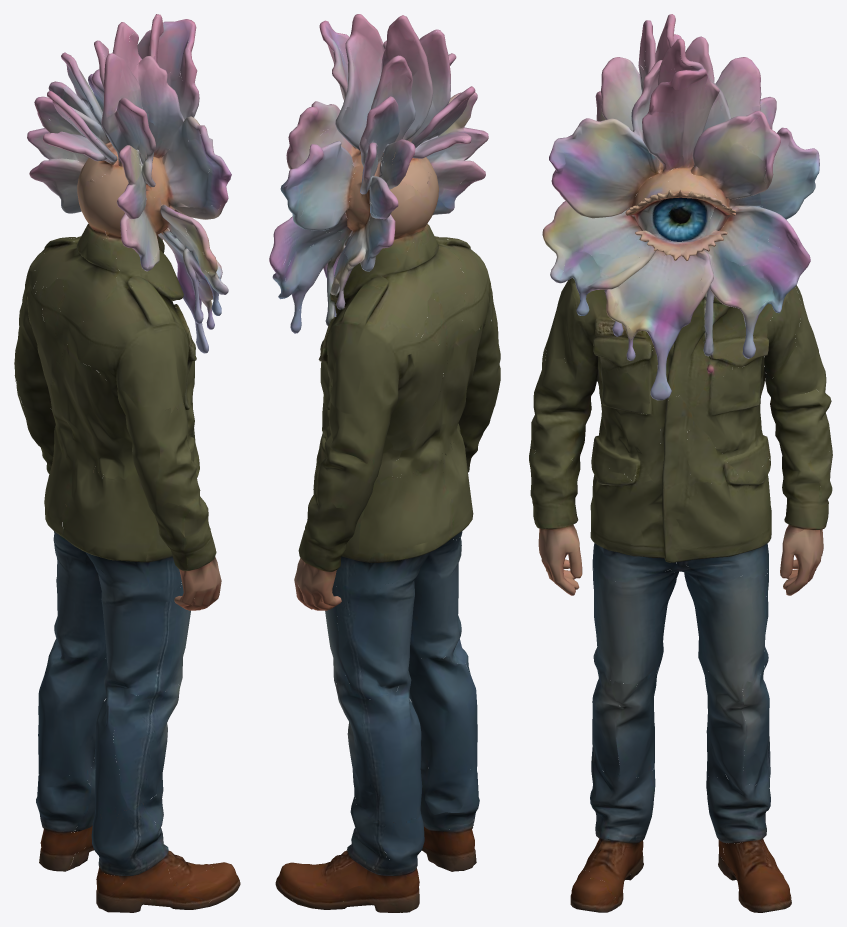
Rendered from cabbie.glb.
3 renders of one model, left to right at view 1: azimuth 30°, elevation 25°; view 2: azimuth 150°, elevation 25°; view 3: azimuth 270°, elevation 25°, orthographic.
Parts seen in each view (by area): view 1: tripo_node_a42e675f-a73e-45f9-b257-74cbc0c52e2a; view 2: tripo_node_a42e675f-a73e-45f9-b257-74cbc0c52e2a; view 3: tripo_node_a42e675f-a73e-45f9-b257-74cbc0c52e2a.
Boxes of the visible parts, x1=… form: tripo_node_a42e675f-a73e-45f9-b257-74cbc0c52e2a: x1=14, y1=14, x2=240, y2=912; tripo_node_a42e675f-a73e-45f9-b257-74cbc0c52e2a: x1=269, y1=14, x2=500, y2=912; tripo_node_a42e675f-a73e-45f9-b257-74cbc0c52e2a: x1=529, y1=14, x2=832, y2=912.
Size of the model in its own units: 0.1845 by 1 by 0.3165.
1 material, 1 textured.
